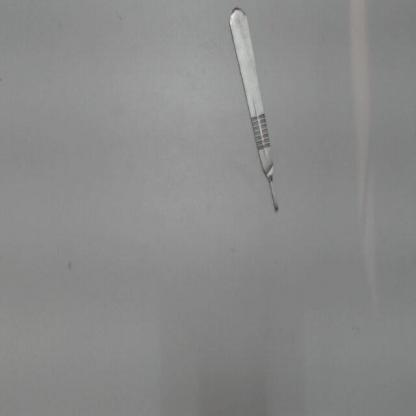No.3 BP Handle: (217, 2, 290, 224)
